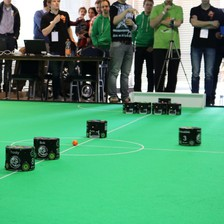ball: (68, 138, 78, 146)
goal: (124, 89, 206, 108)
robot: (4, 141, 36, 173), (175, 119, 210, 147), (30, 134, 61, 159), (85, 118, 108, 139), (120, 100, 138, 115), (149, 101, 166, 115), (166, 101, 182, 115), (136, 101, 150, 115), (157, 94, 171, 101)
